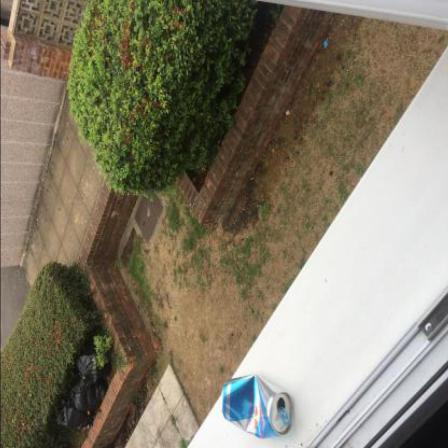Can: (222, 374, 296, 440)
Plastic bag - wrapper: (71, 378, 110, 413), (76, 350, 112, 387), (59, 396, 97, 431)
Pop tab: (279, 408, 291, 427)
